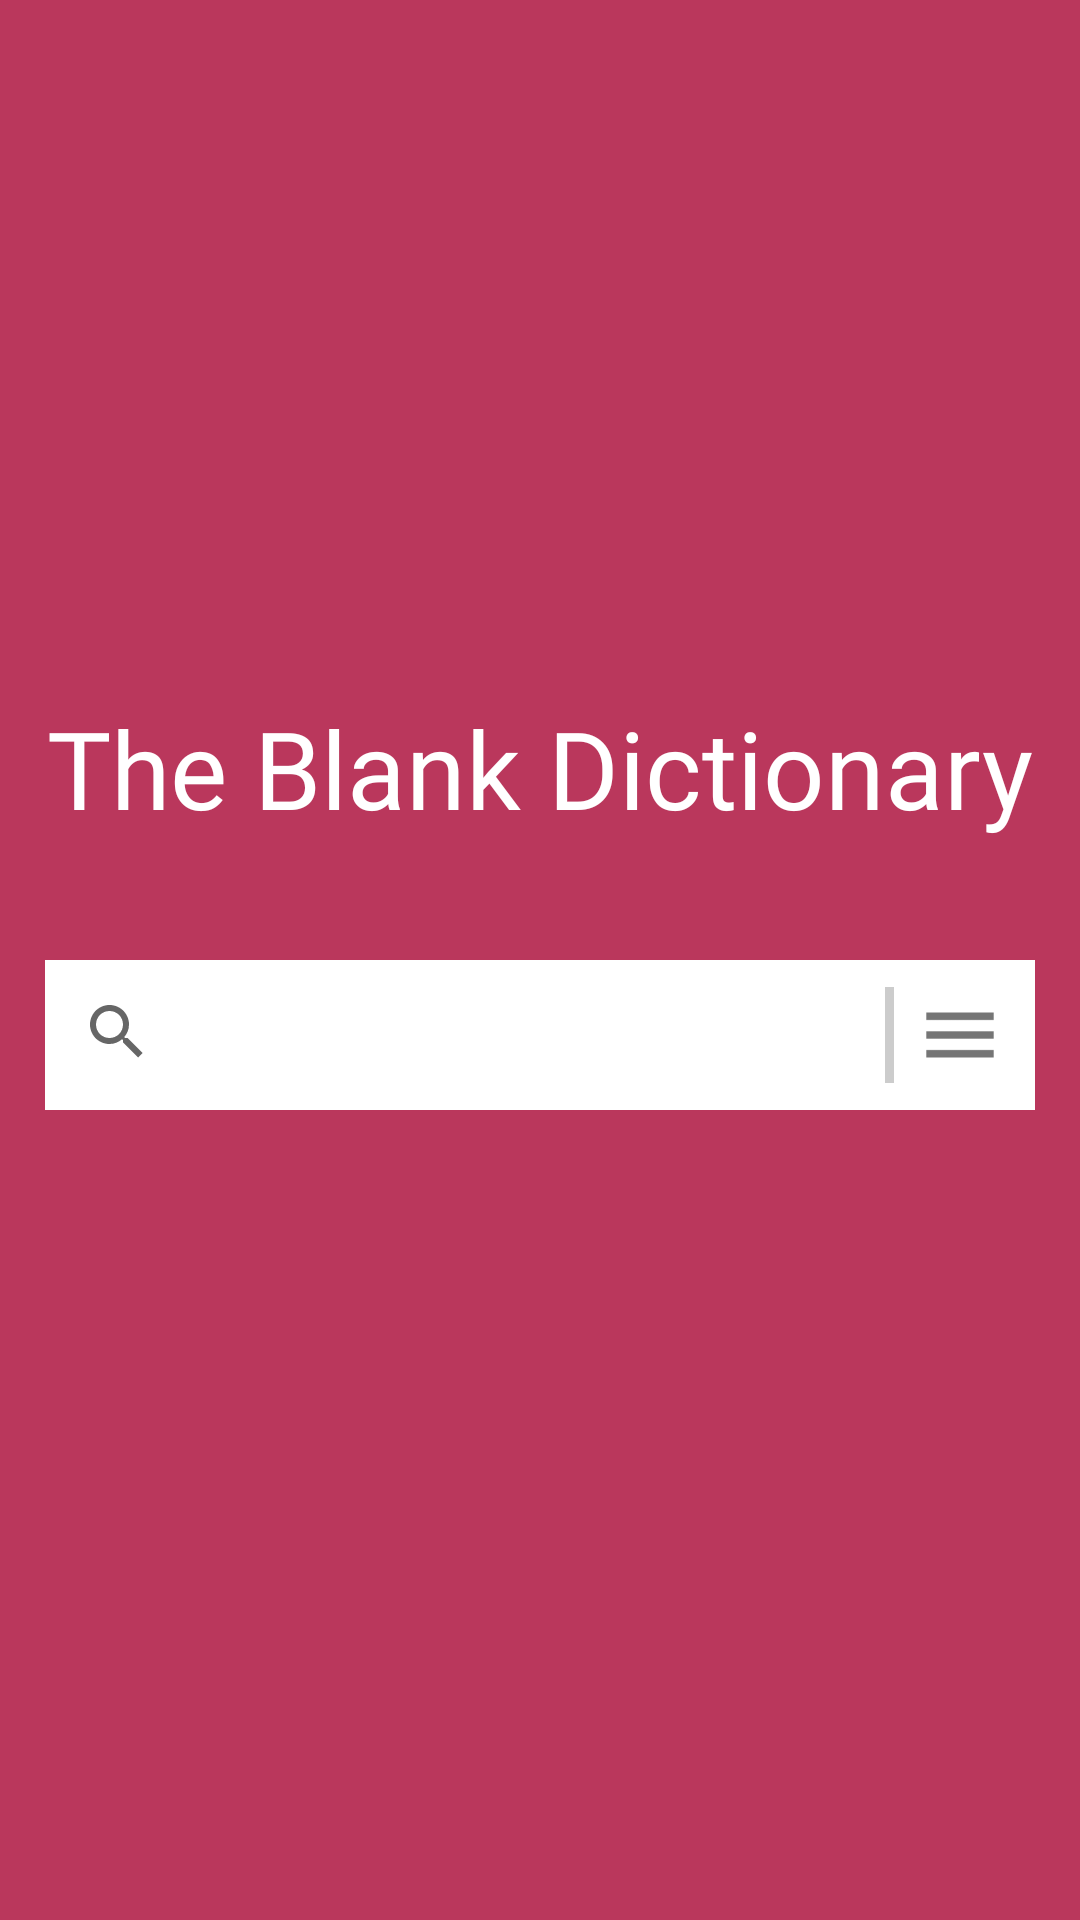

Locate icon controls on the screen. Image size 1080px x 1920px, boxes as (x1, y1, x2, y2).
menu: (926, 1012, 994, 1058)
